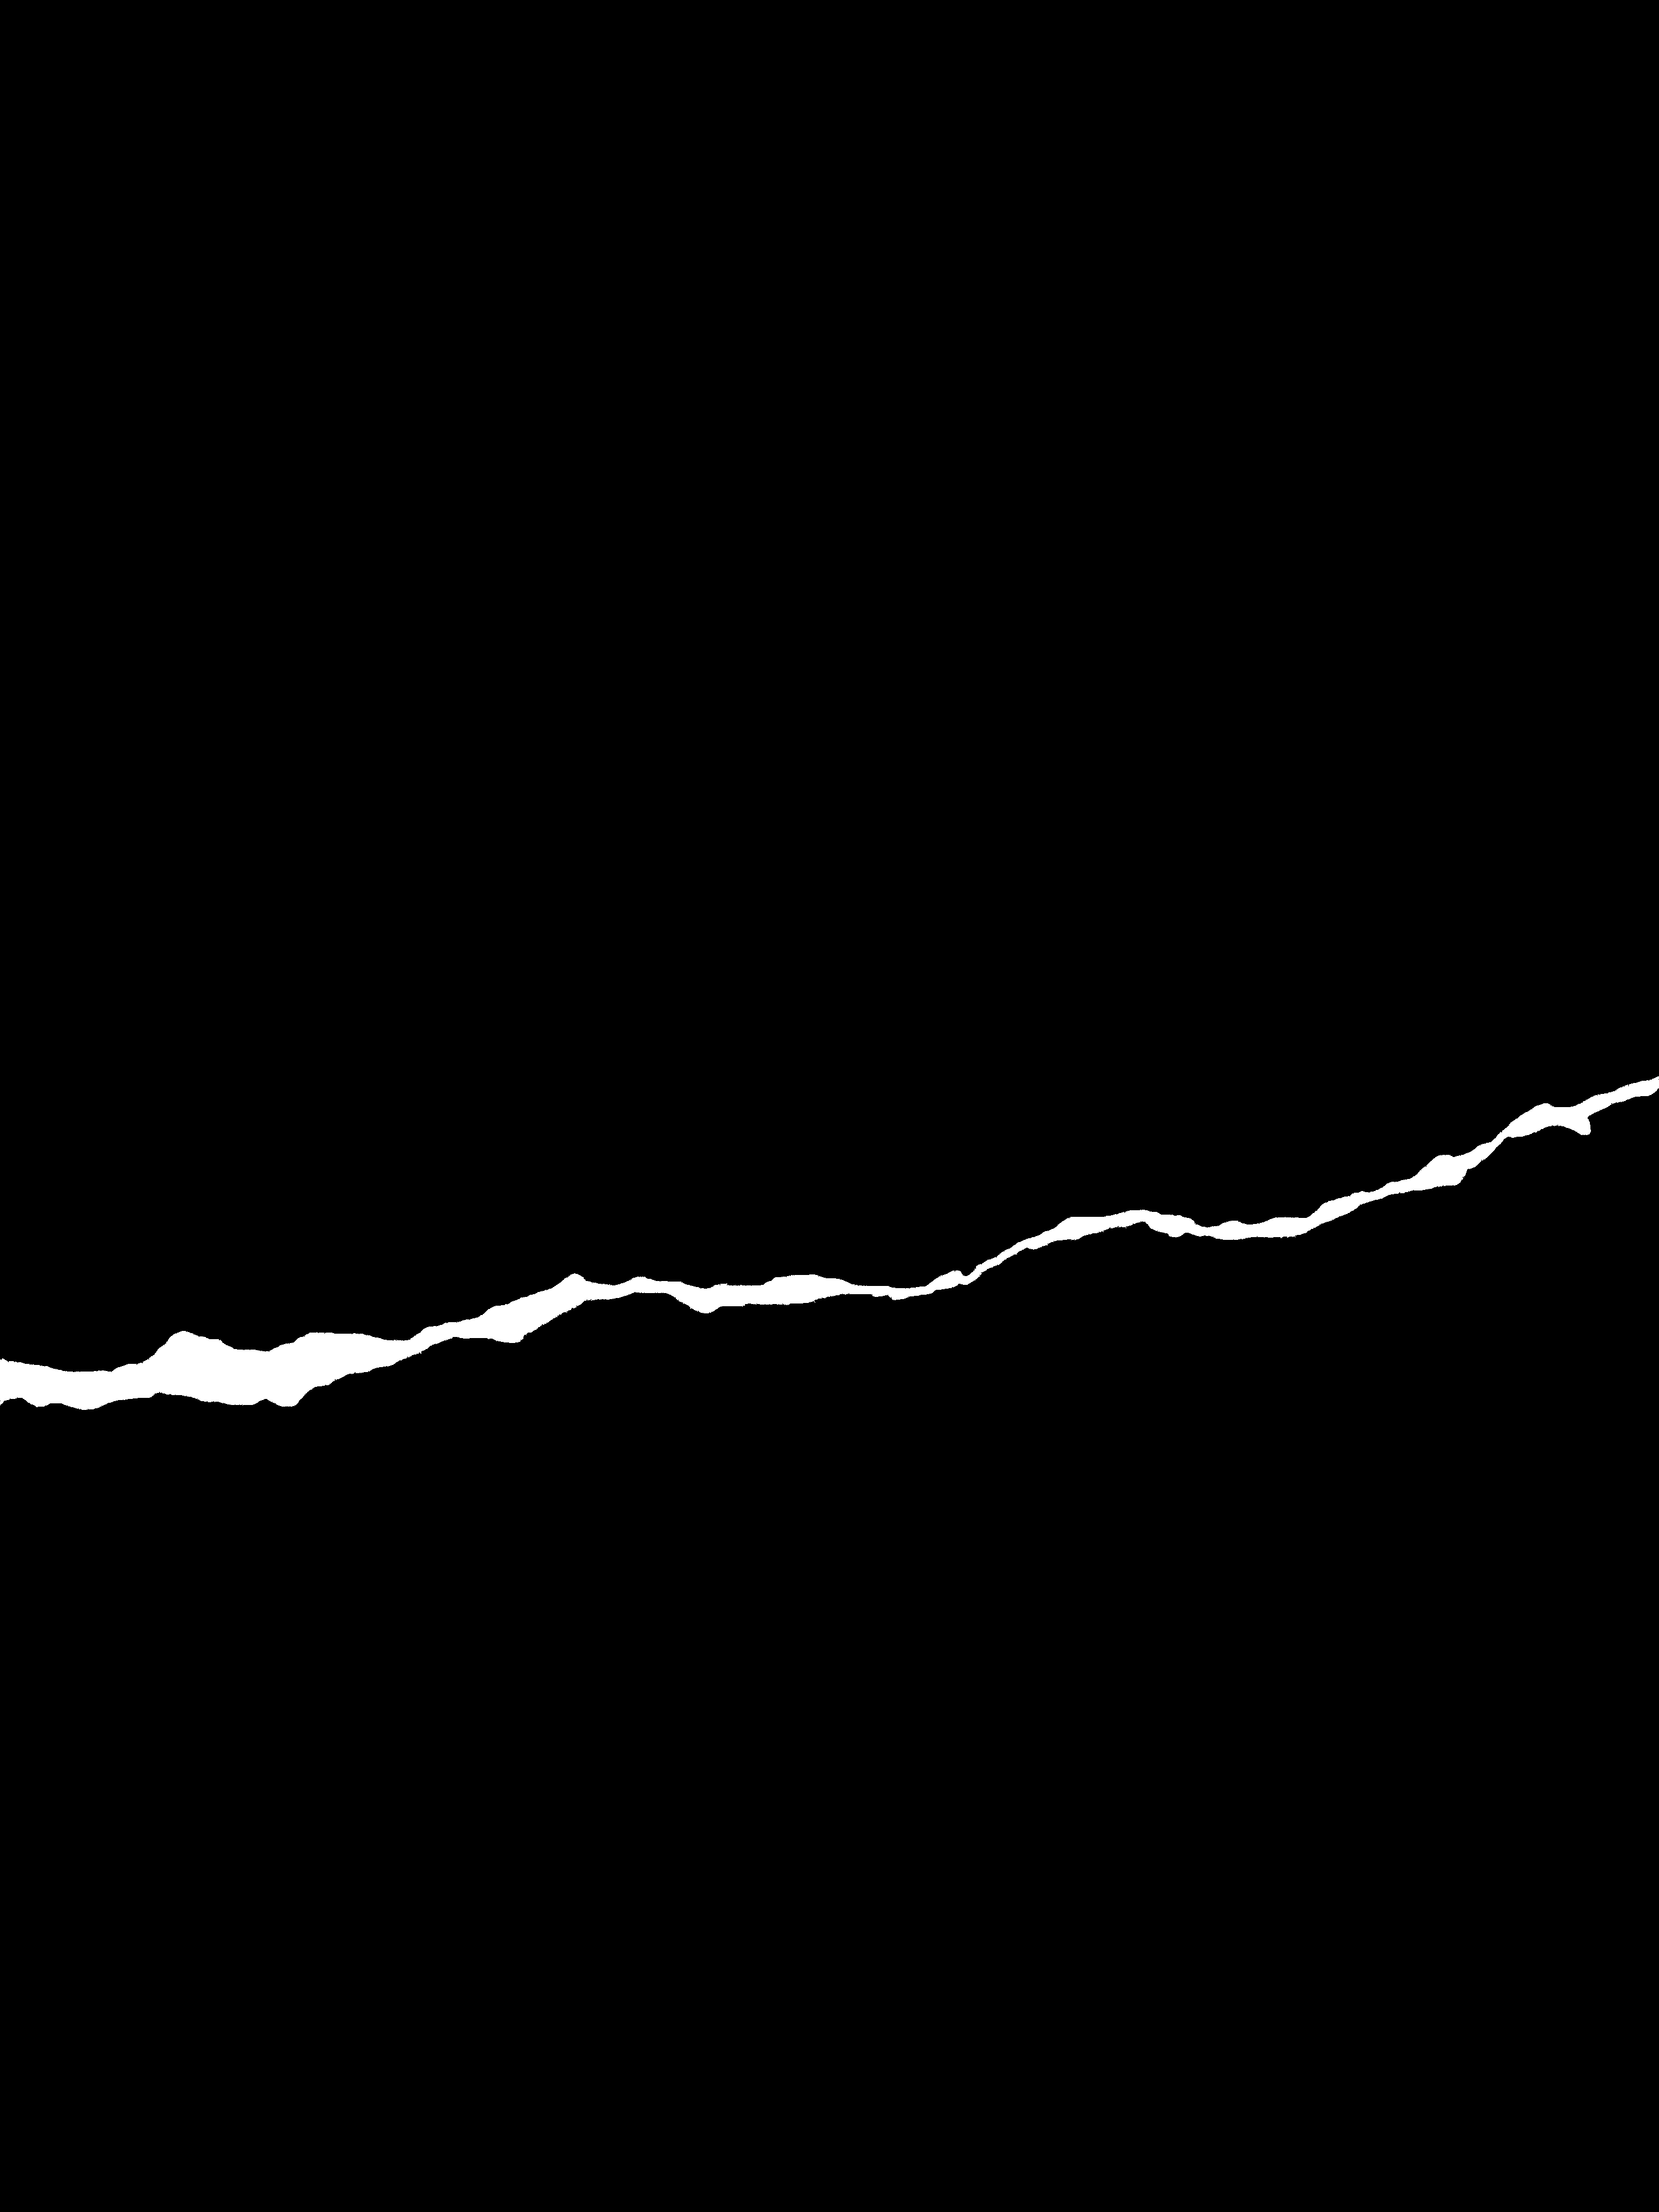Crack: (0, 1047, 1659, 1428)
